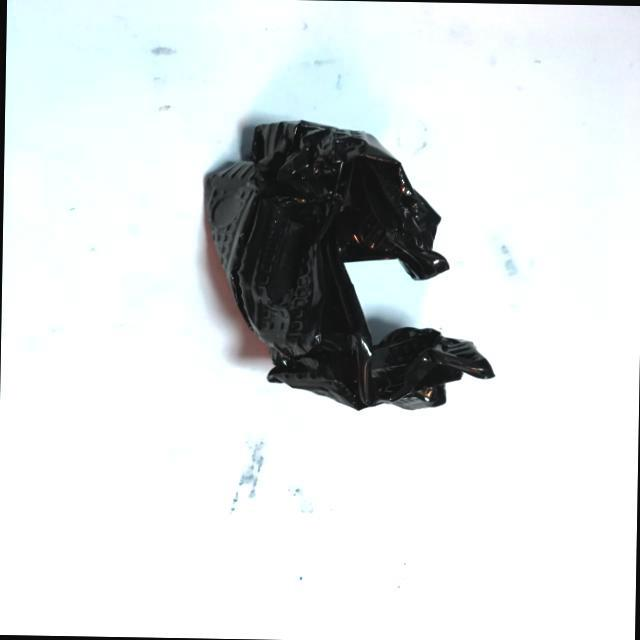plastic: (159, 96, 503, 457)
